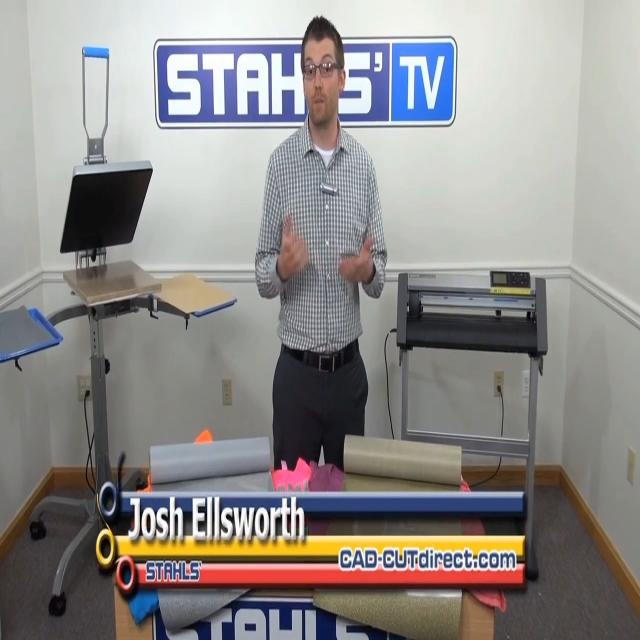shirt: (254, 110, 388, 356)
